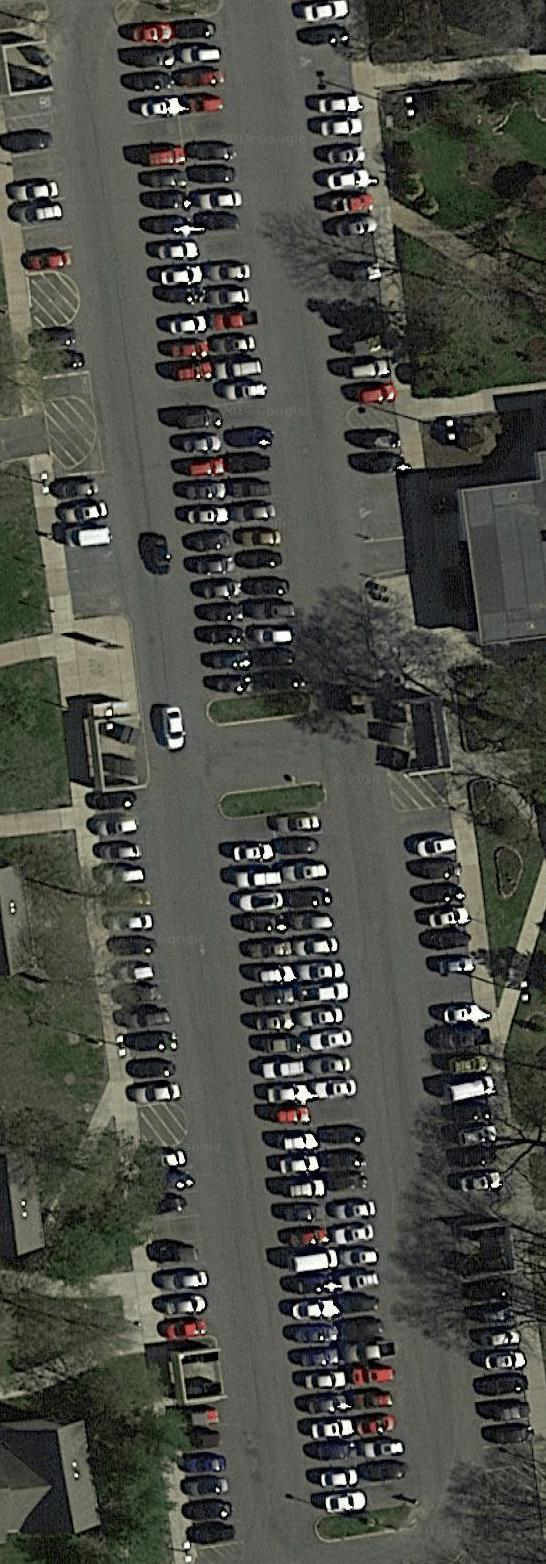parkingspot: (270, 803, 417, 1516), (220, 811, 367, 1521), (115, 18, 258, 706), (167, 11, 308, 698), (395, 803, 509, 1225), (300, 0, 396, 410), (87, 783, 185, 1111), (460, 1268, 537, 1475), (150, 1145, 217, 1344), (343, 422, 421, 582), (4, 122, 80, 281), (53, 467, 127, 624), (179, 1401, 243, 1551), (29, 318, 94, 382), (1, 86, 63, 123)
